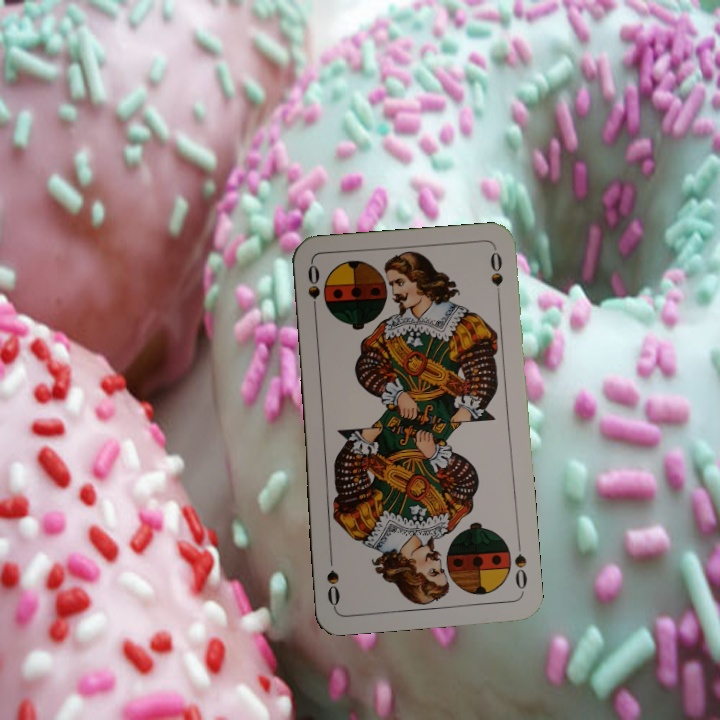SO: (303, 261, 323, 320), (510, 536, 530, 595)
